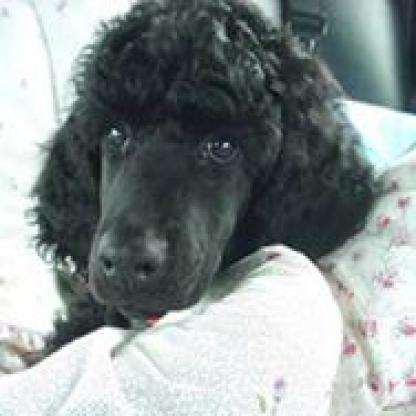standard_poodle: (6, 0, 382, 362)
